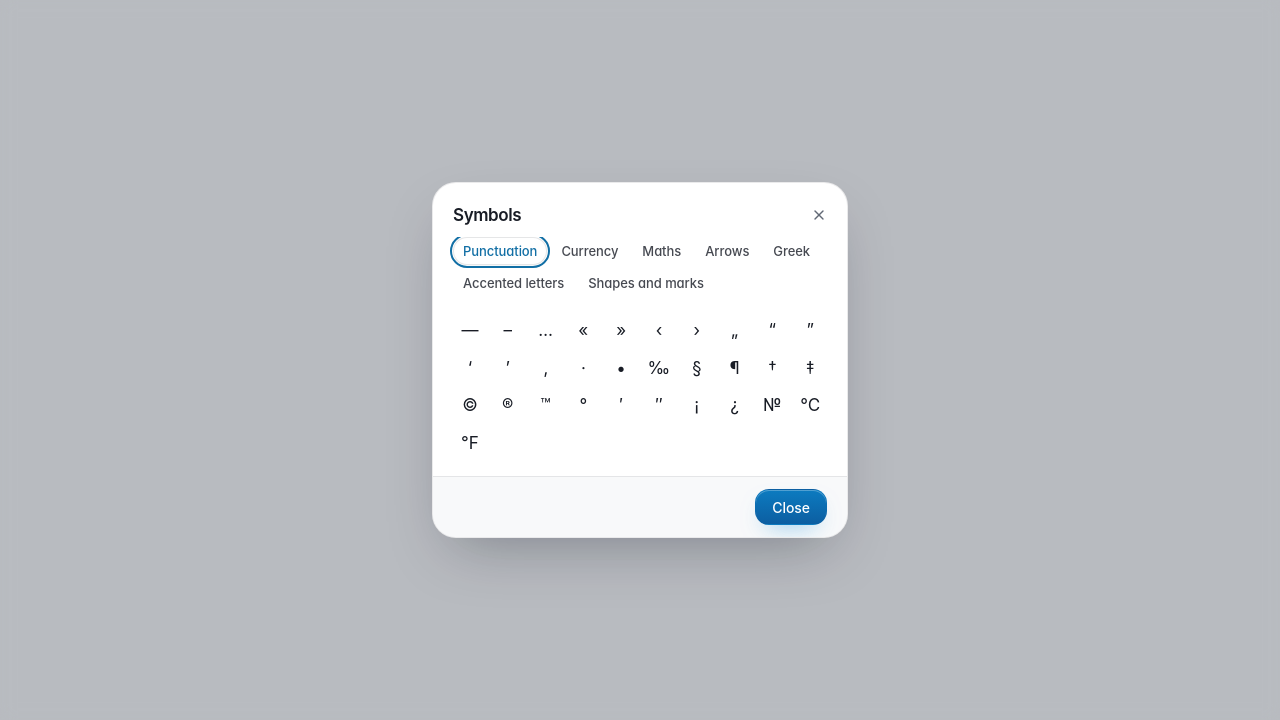
Test: SymbolDialog › inserts the picked symbol at the cursor and keeps the dialog open
Click the tab "Currency": (590, 251) [551,237,628,265]
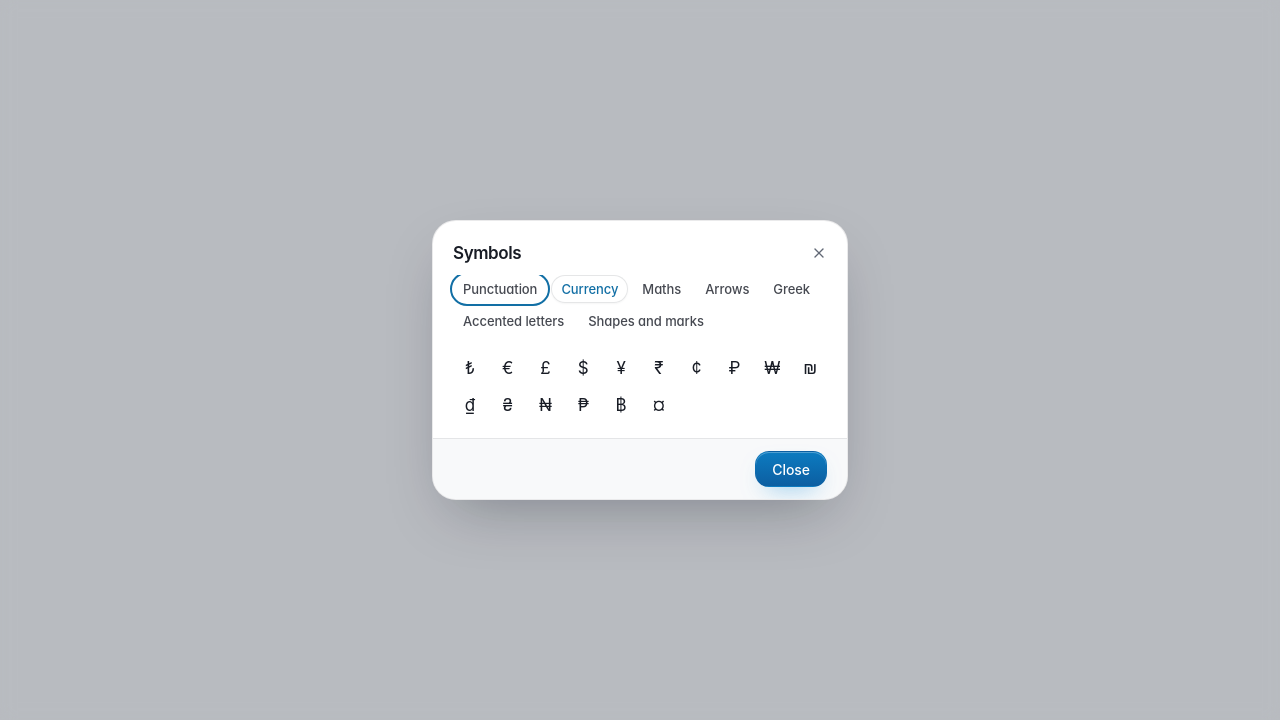
Click the button named "₺ U+20BA": (470, 368) [453,351,487,384]
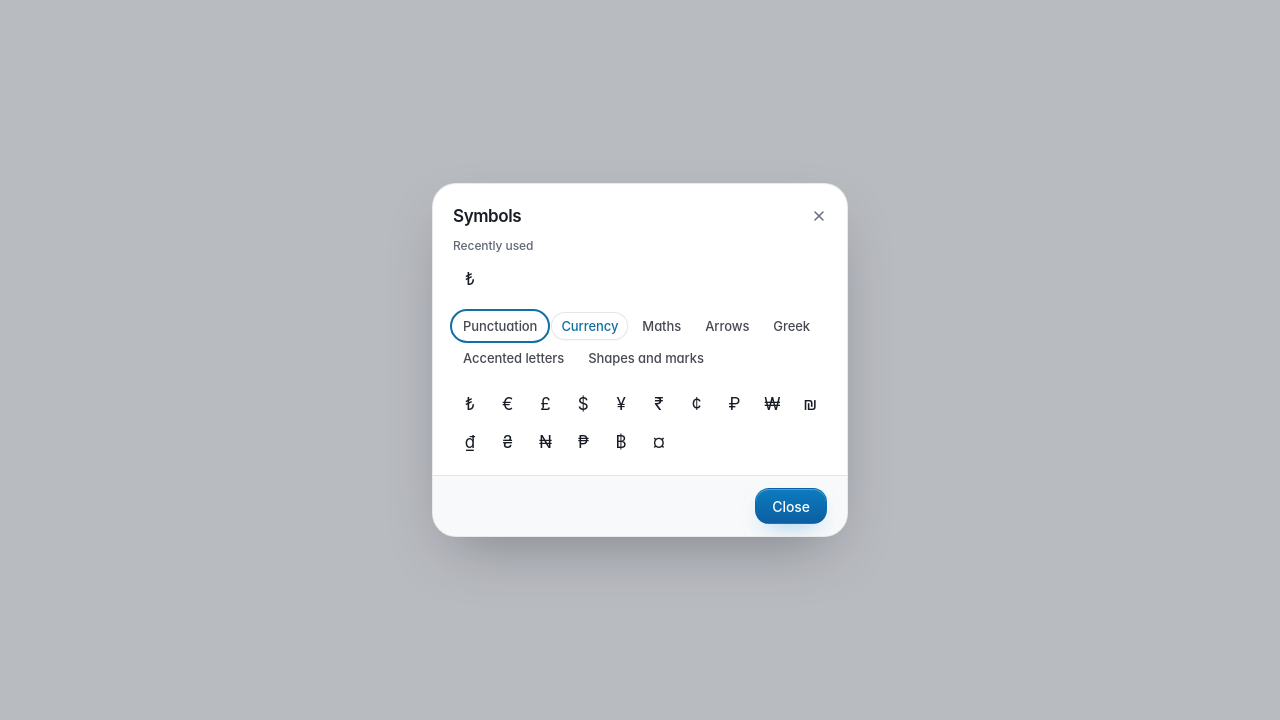
Click the button named "€ U+20AC": (508, 404) [491,388,525,421]
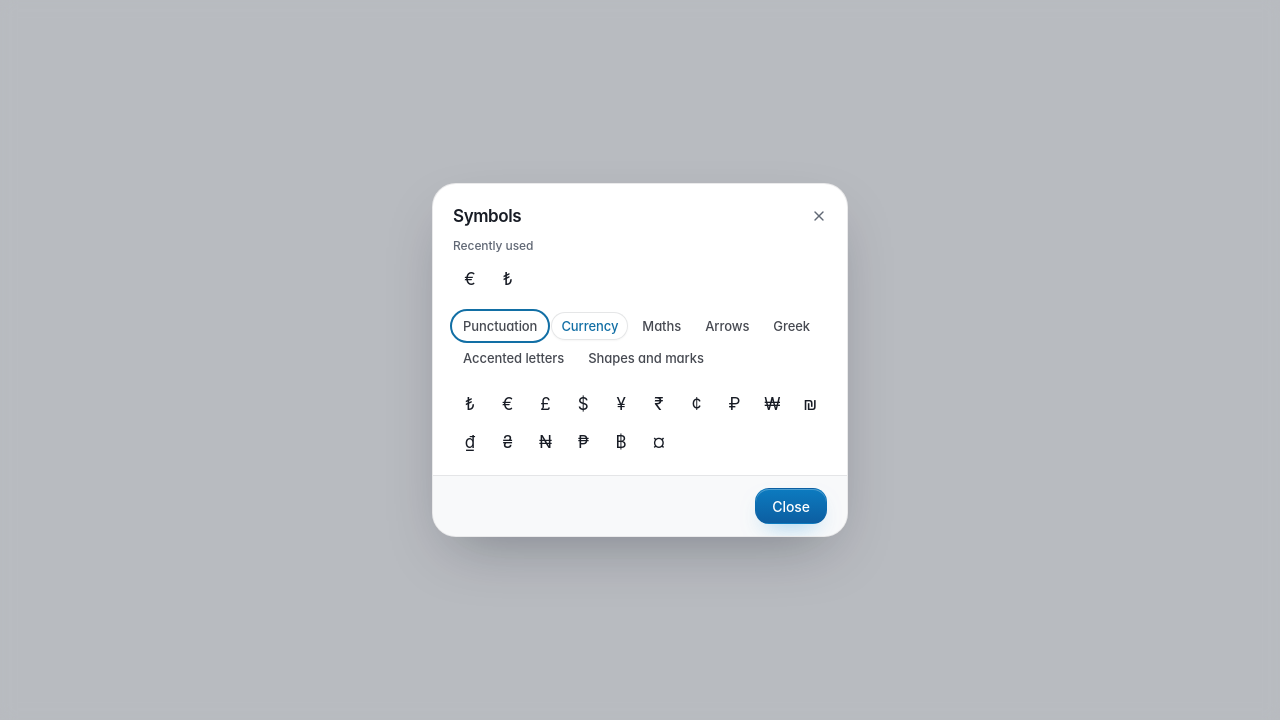
Check: the buttons read "€", "₺", in this order, box [453,262,487,296]; [491,262,525,296]
